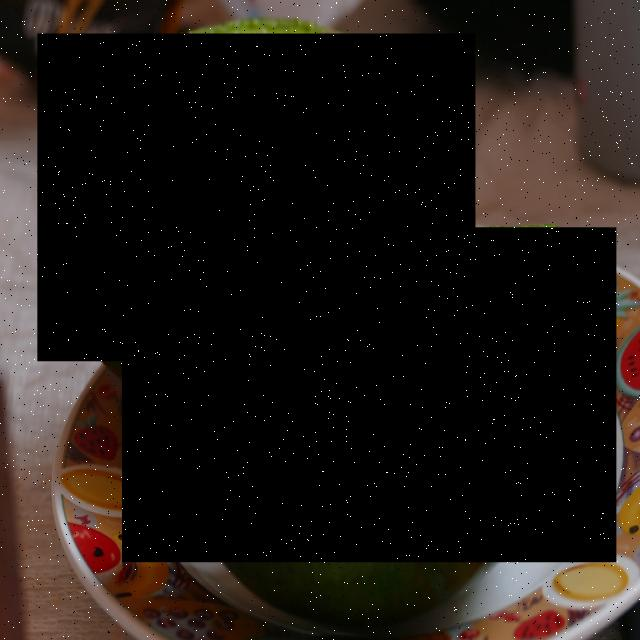Avocado: (122, 228, 616, 562), (38, 34, 476, 362)
